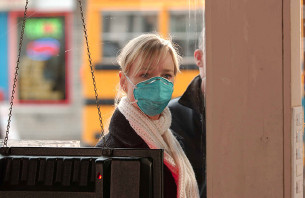face_mask: (127, 61, 173, 114)
